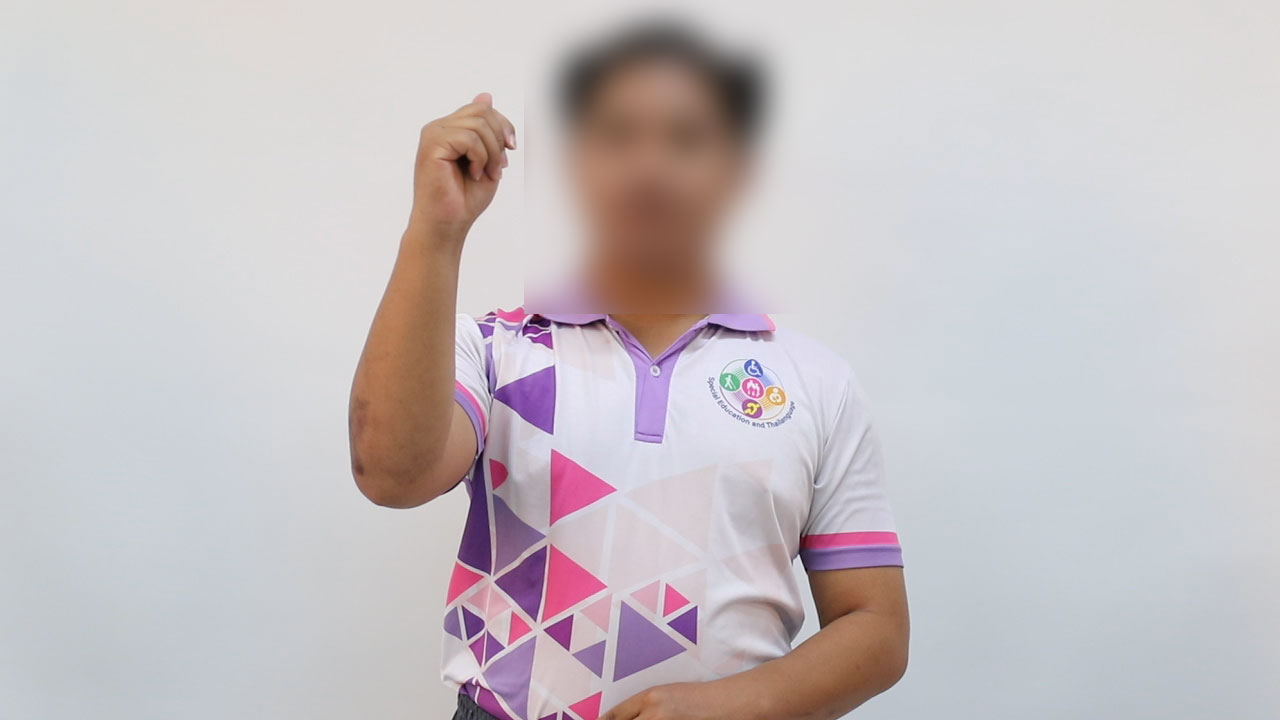tor: (377, 66, 545, 260)
